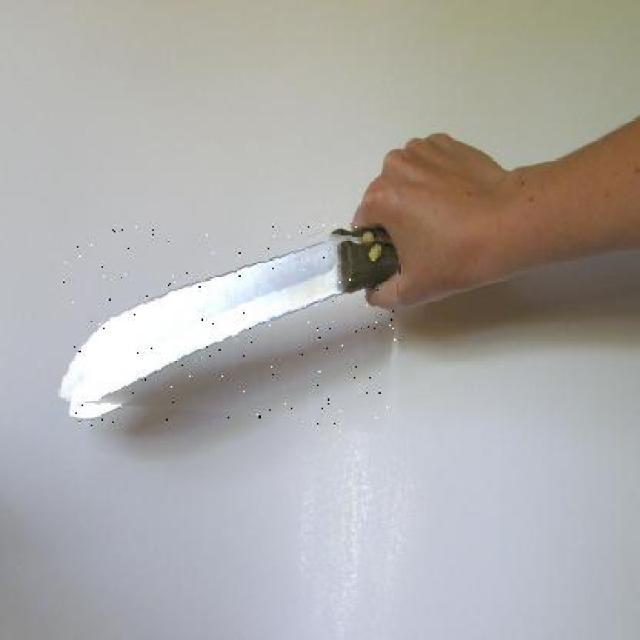knife: (63, 223, 399, 426)
